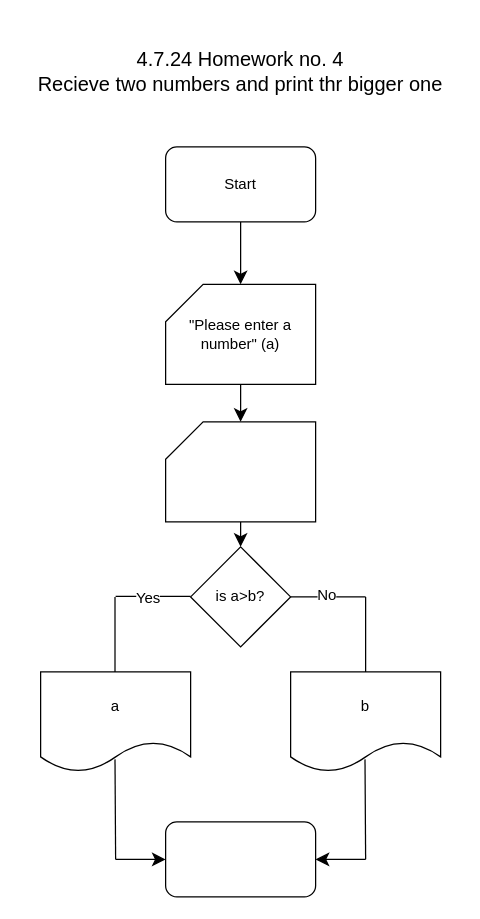
This 480x919 diagram has some shape labels left out. Here are the shapes that lost their labels. From the top down, the box of each, then its label:
(164, 421, 316, 522): "Please enter a second number" (b)
(164, 821, 316, 897): End
